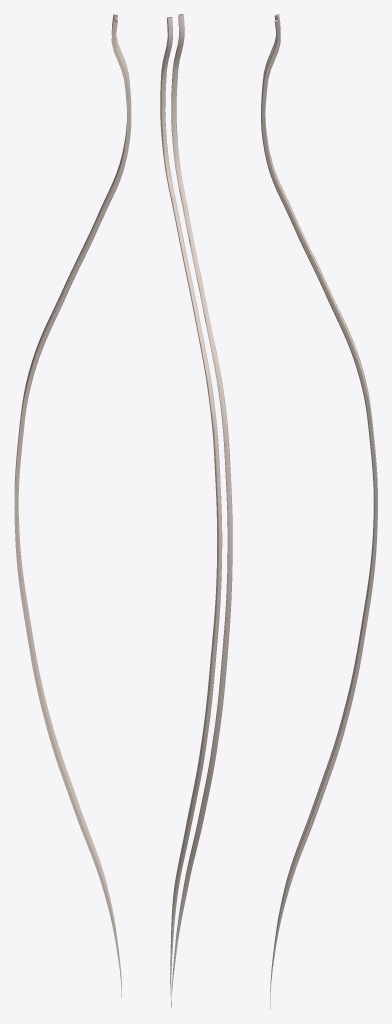
The model's file is nervoso-anterior-horn-of-spinal-cord.glb.
3 renders of one model, left to right at view 1: azimuth 90°, elevation 25°; view 2: azimuth 210°, elevation 25°; view 3: azimuth 270°, elevation 25°, orthographic.
Parts seen in each view (by area): view 1: Anterior horn of spinal cord; view 2: Anterior horn of spinal cord; view 3: Anterior horn of spinal cord.
Part boxes in pixels (x1,y1,x2,y2): Anterior horn of spinal cord: (14,14,131,997); Anterior horn of spinal cord: (160,14,232,1007); Anterior horn of spinal cord: (261,14,377,1009).
Bounding box in the file's own units: 0.00819 × 0.4895 × 0.0523.
